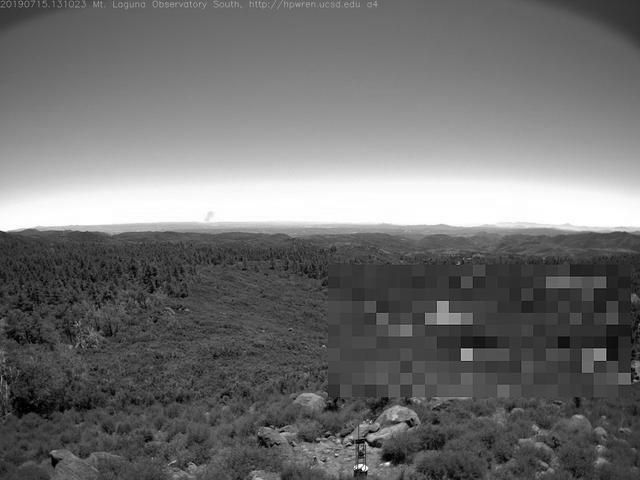smoke: (199, 205, 219, 226)
